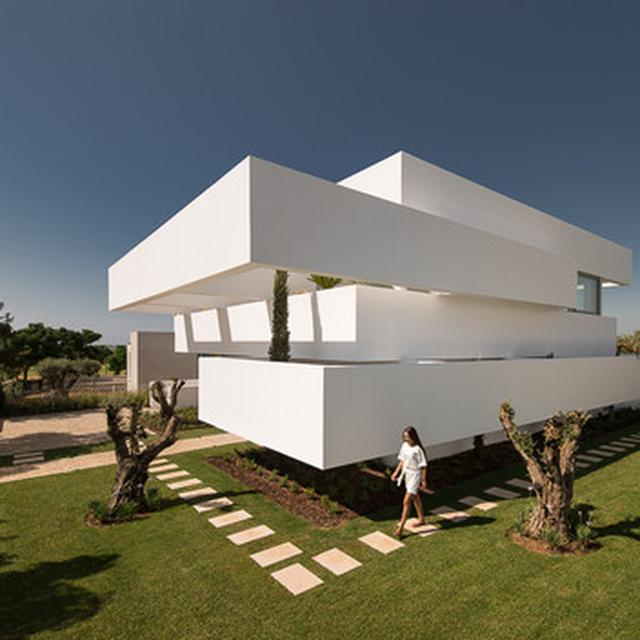building: (111, 144, 640, 469)
